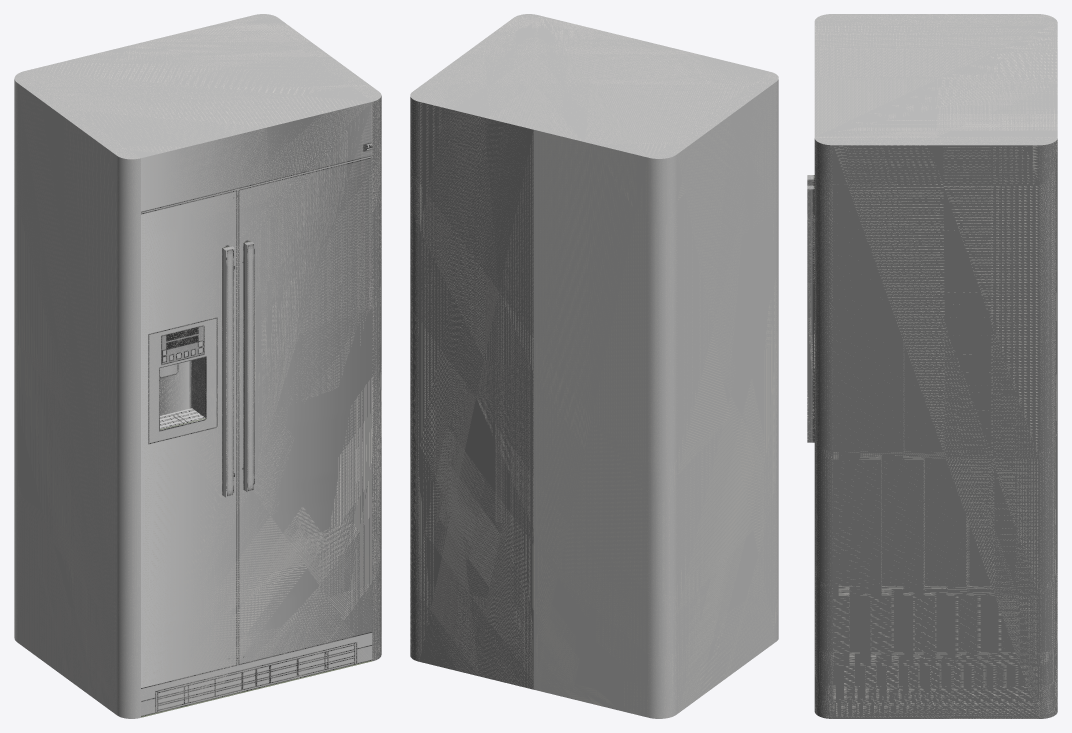
File: refrigerator.dae
The picture shows the model from 3 angles, left to right: view 1: azimuth 30°, elevation 25°; view 2: azimuth 150°, elevation 25°; view 3: azimuth 270°, elevation 25°; orthographic projection. The views are drawn at different scales.
Visible parts, largest first — view 1: SketchUp (×7); view 2: SketchUp (×3); view 3: SketchUp (×3).
Part boxes in pixels (x1,y1,x2,y2): SketchUp (×7): (14,14,381,718); SketchUp (×3): (410,14,778,718); SketchUp (×3): (807,14,1057,718).
Size of the model in its own units: 33.25 by 26.79 by 67.78.
